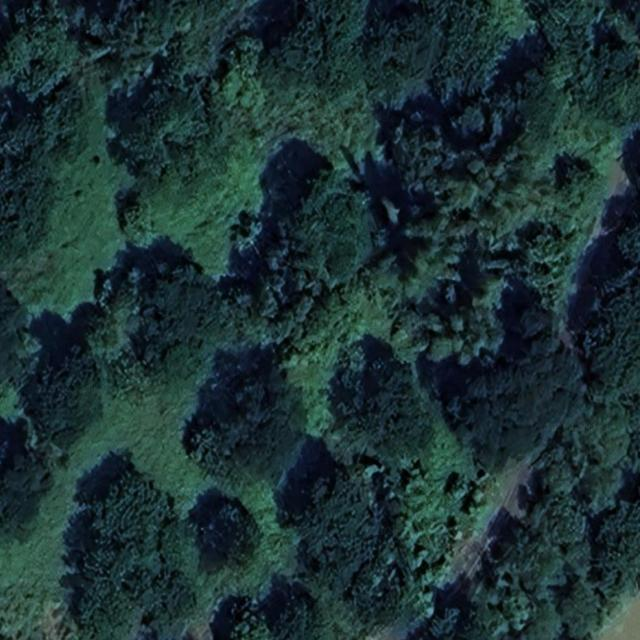Tree: (448, 304, 583, 474), (75, 468, 199, 640), (219, 363, 314, 492), (282, 164, 374, 290), (305, 460, 385, 592), (22, 341, 106, 454), (355, 360, 435, 474), (118, 82, 209, 180), (138, 263, 211, 374), (423, 275, 506, 369), (1, 8, 76, 112), (256, 247, 322, 346), (0, 437, 54, 558), (515, 222, 587, 307), (461, 161, 539, 239), (589, 283, 640, 401), (594, 504, 640, 614), (400, 211, 468, 285), (393, 110, 448, 197), (507, 60, 564, 137), (574, 396, 631, 471), (274, 10, 327, 84), (92, 3, 145, 68), (2, 136, 36, 237), (514, 537, 568, 595), (214, 494, 259, 562), (73, 300, 122, 358), (558, 576, 602, 640), (219, 63, 267, 119), (543, 494, 591, 549), (552, 160, 600, 214), (119, 194, 158, 251), (276, 592, 320, 640), (227, 592, 270, 640), (188, 418, 224, 475), (462, 593, 505, 640), (514, 599, 560, 640), (449, 98, 487, 147), (232, 28, 264, 78), (616, 223, 640, 266), (448, 476, 471, 504)
